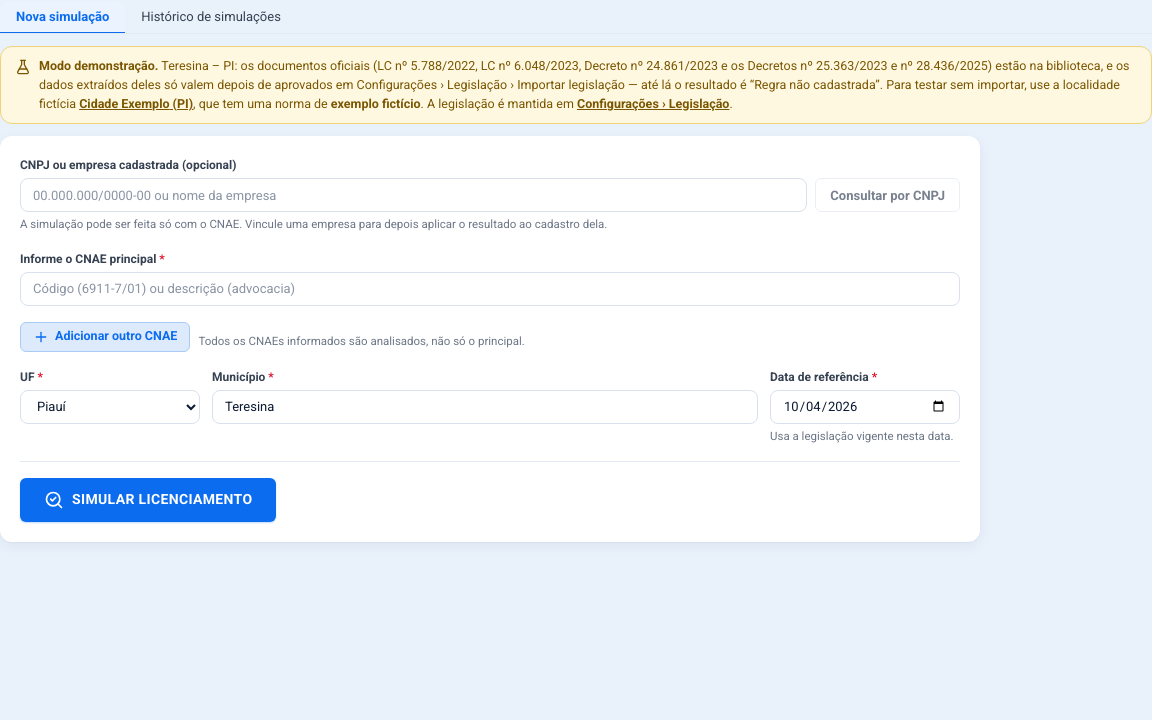
Test: tela de Simulação de Licenciamento › condição deixada em branco: ENQUADRAMENTO CONDICIONADO
Click the button "Cidade Exemplo (PI)" at {"x": 136, "y": 104}, box [79,94,193,113]
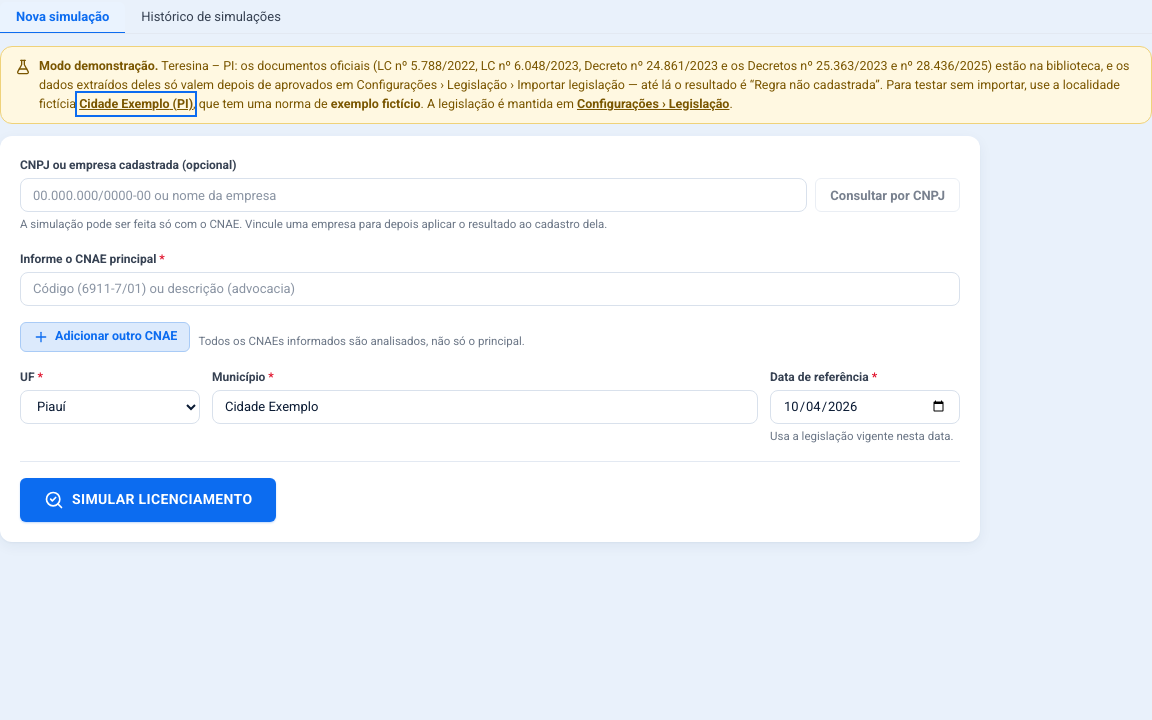
Type "5611-2/03" into the dropdown labelled "Informe o CNAE principal *" at {"x": 490, "y": 288}, box [20,272,960,306]
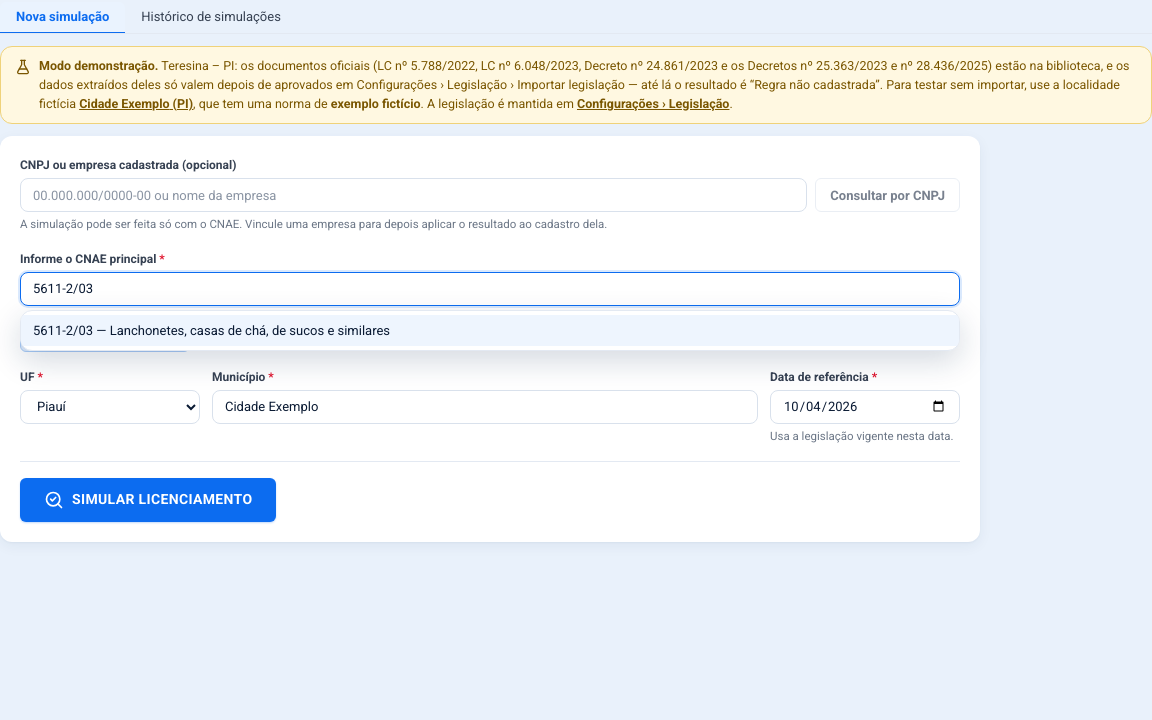
Click the button "Simular licenciamento" at {"x": 148, "y": 500}, box [20,478,276,522]
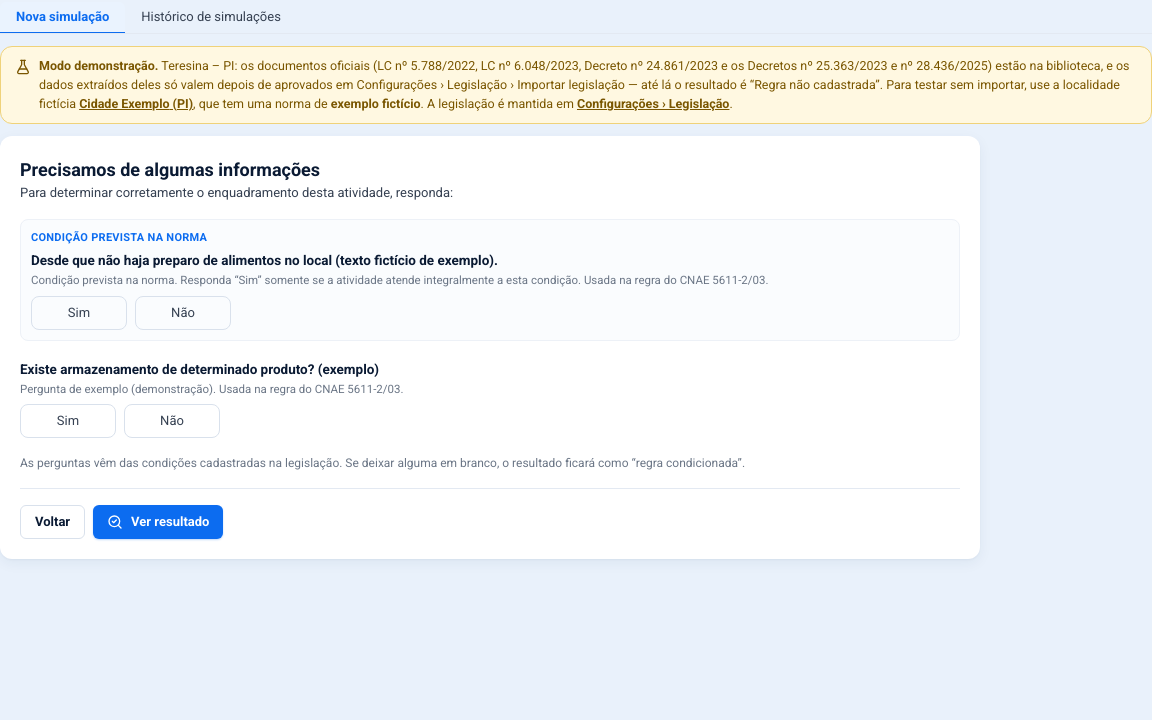
Now the heading "Precisamos de algumas informações" is shown, box [20,159,320,180]
Click the button "Ver resultado" at {"x": 158, "y": 522}, box [93,505,223,539]
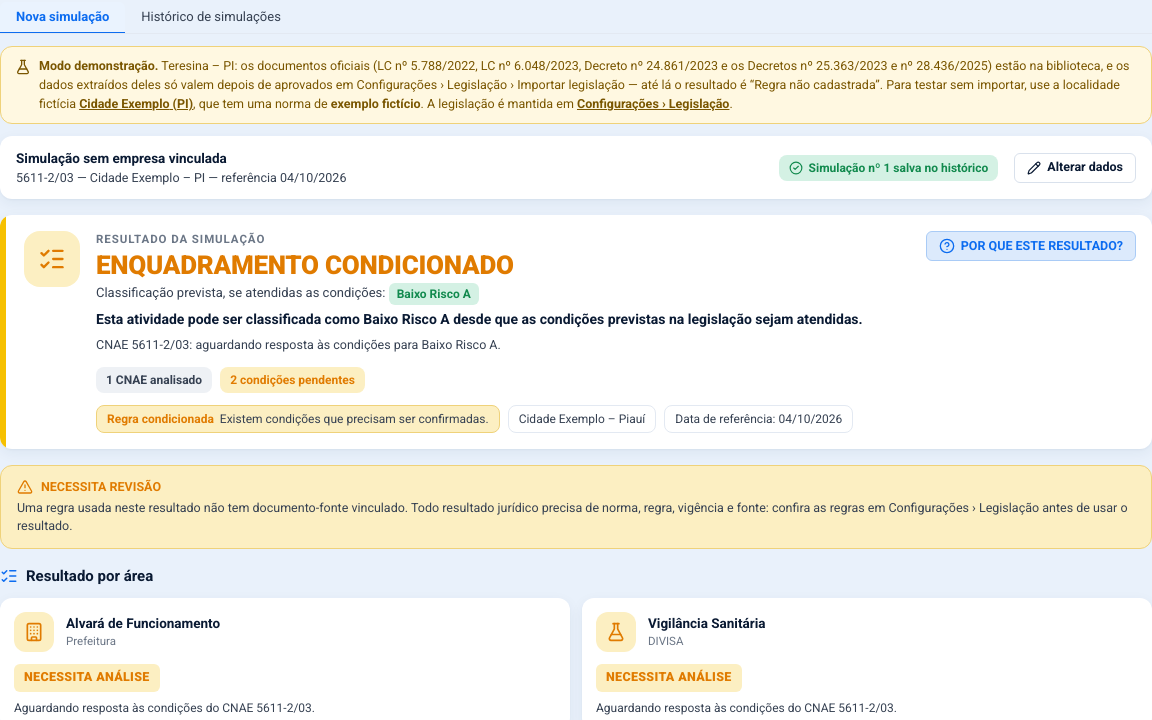
Now the text "Regra condicionada" is shown, box [107,410,214,428]
Now the text "Esta atividade pode ser classificada como Baixo Risco A desde que as condições previstas na legislação sejam atendidas." is shown, box [96,311,863,327]
Now the text "Enquadramento Condicionado" is shown, box [96,250,514,280]
